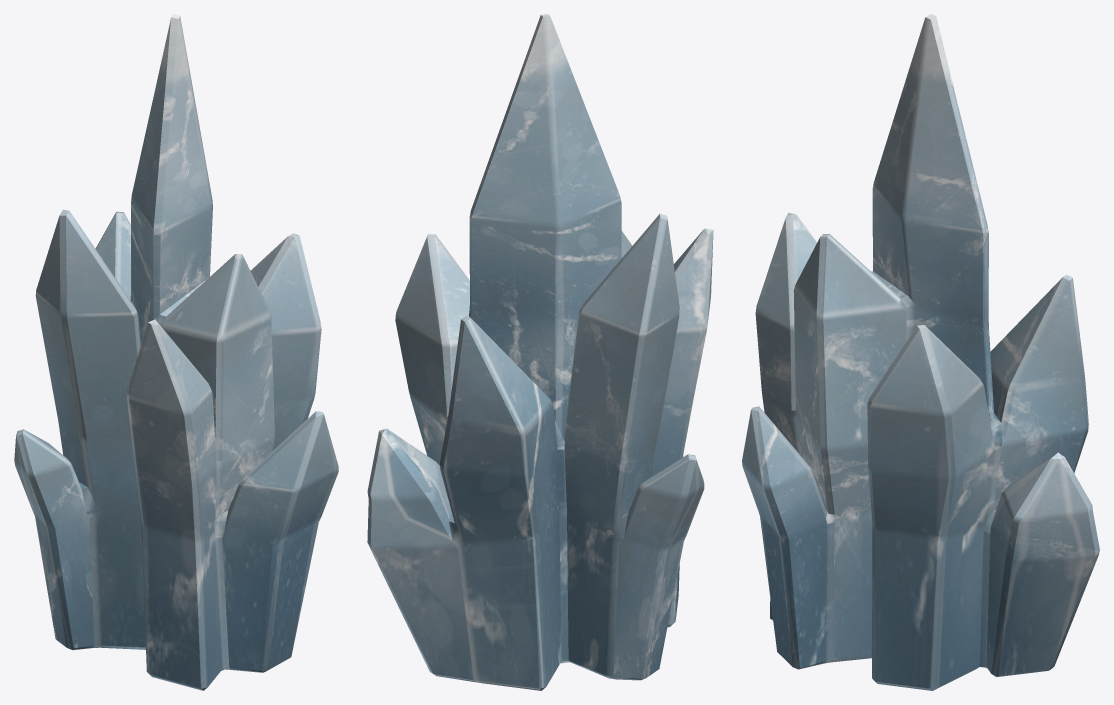
File: Espina De Hielo.fbx
3 renders of one model, left to right at view 1: azimuth 30°, elevation 25°; view 2: azimuth 150°, elevation 25°; view 3: azimuth 270°, elevation 25°, orthographic. The views are drawn at different scales.
Parts seen in each view (by area): view 1: L0; view 2: L0; view 3: L0.
Part boxes in pixels (x1,y1,x2,y2): L0: [14, 14, 338, 690]; L0: [367, 14, 713, 690]; L0: [742, 14, 1099, 690].
Bounding box in the file's own units: 2.81 × 5.64 × 2.9.
